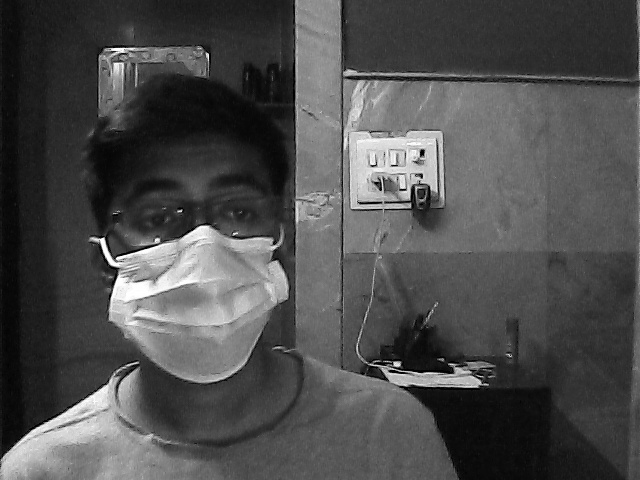mask: (102, 143, 293, 388)
